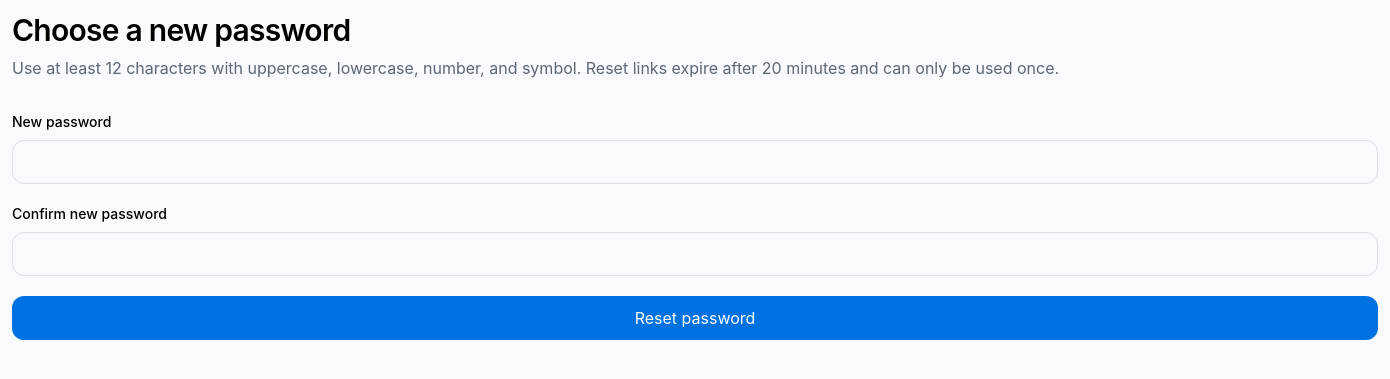
Test: requires password confirmation before completing a reset
Type "Changed!Password456" into the password field labelled "New password".
click(695, 162); type("Changed!Password456")  # box [12, 140, 1378, 184]
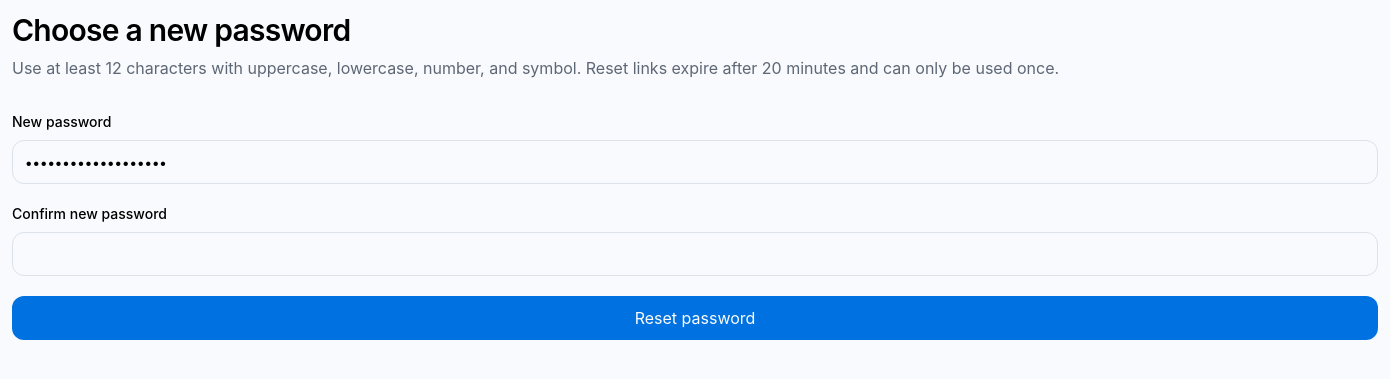
Type "Different!Password456" into the password field labelled "Confirm new password".
click(695, 254); type("Different!Password456")  # box [12, 232, 1378, 276]
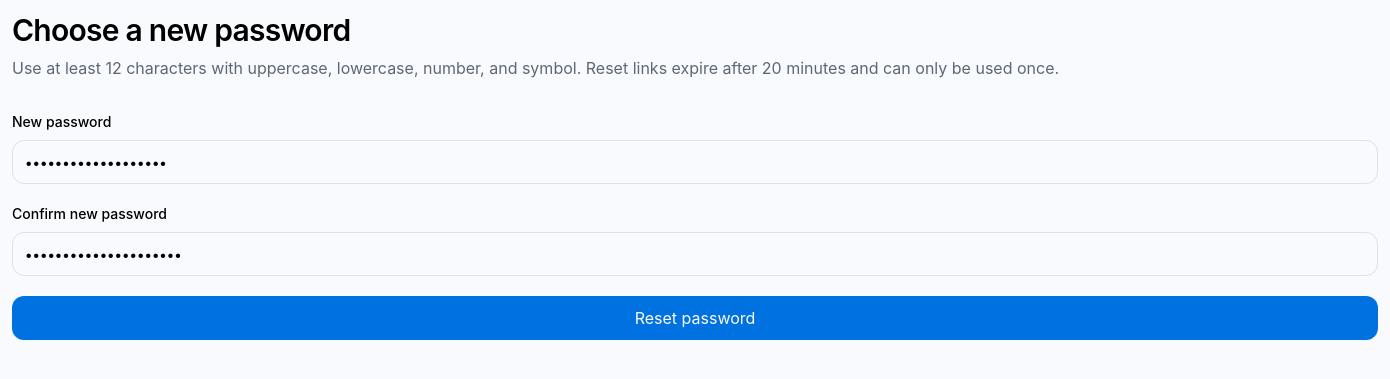
Click the button "Reset password".
click(695, 318)  # box [12, 296, 1378, 340]
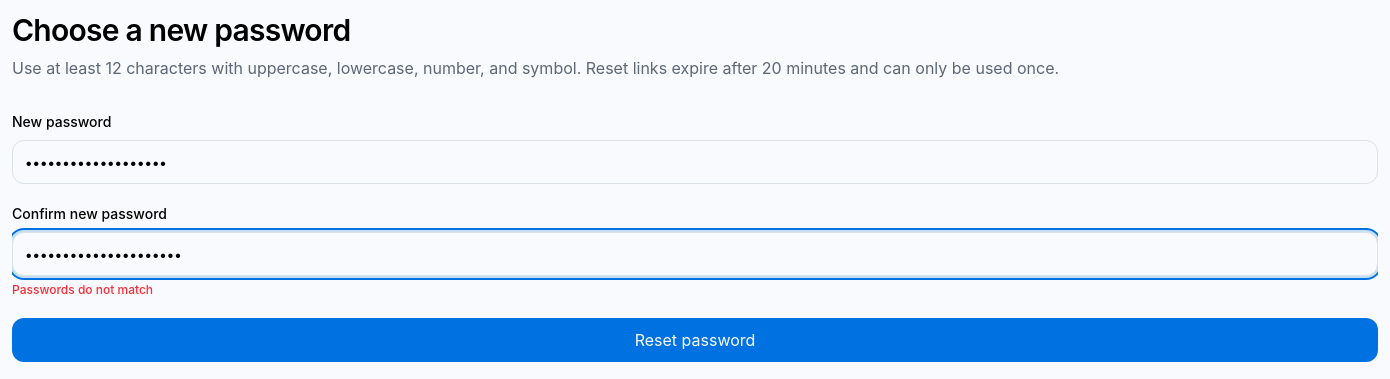
Now the text "Passwords do not match" is shown, box [12, 282, 153, 297]
